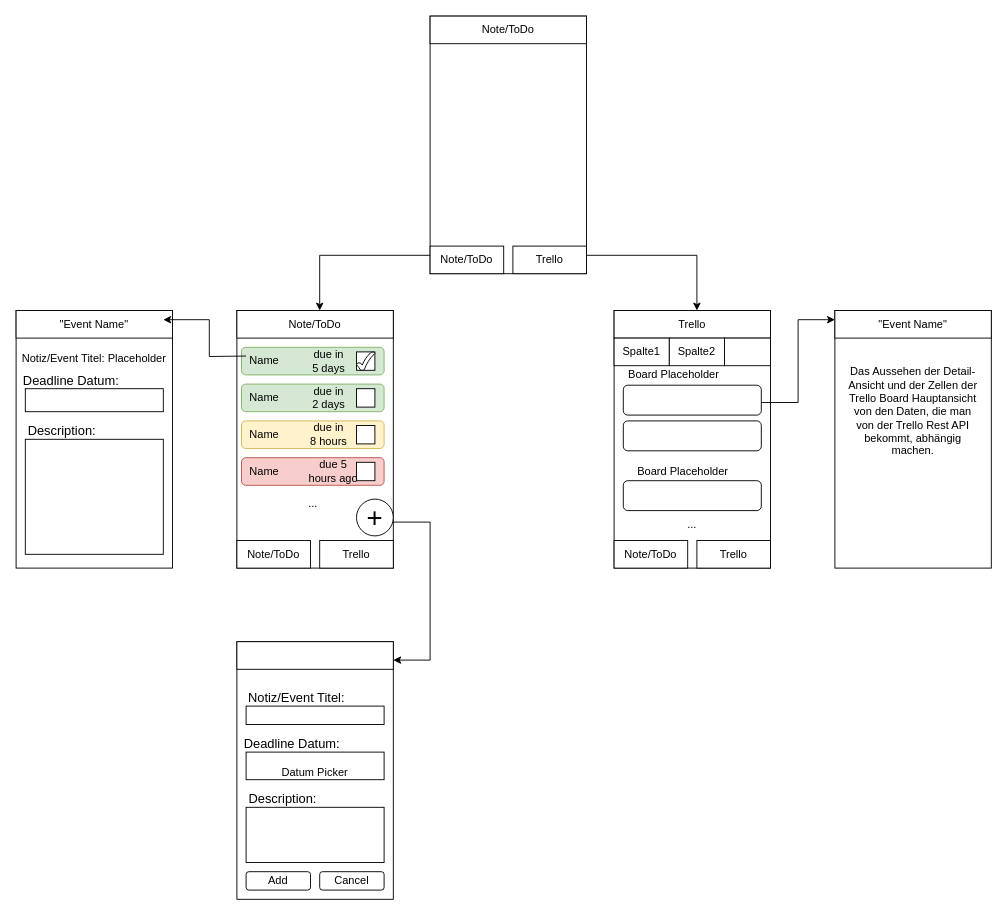
This 1007x915 diagram has some shape labels left out. Here are the shapes that lost their labels. From the top down, the centre of each, then its label:
the point at 747,351: usw.
the point at 314,655: Add Notiz/Event
